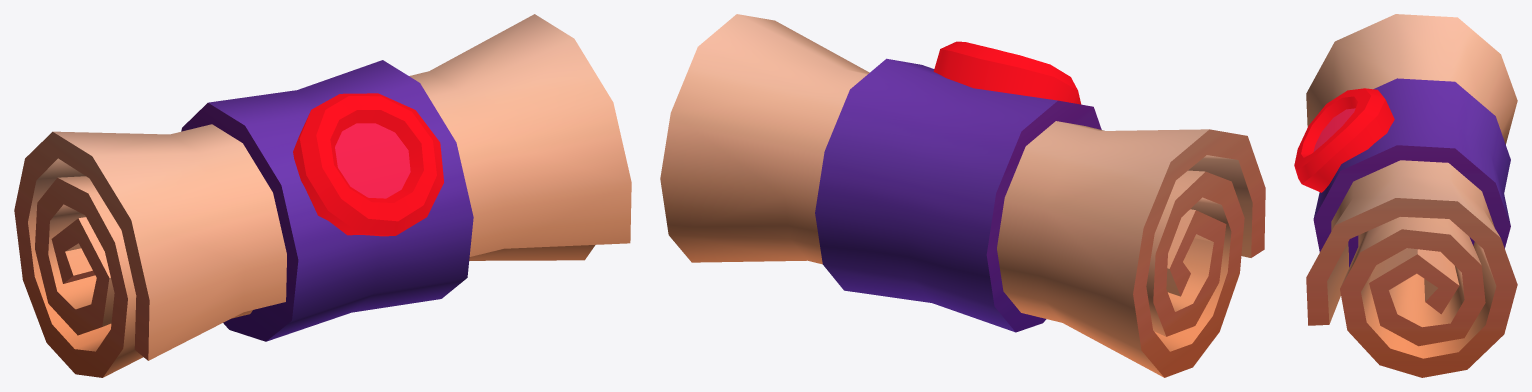
Rendered from Scroll_02.glb.
3 views of the same model, side by side, from view 1: azimuth 30°, elevation 25°; view 2: azimuth 150°, elevation 25°; view 3: azimuth 270°, elevation 25° (orthographic). The views are drawn at different scales.
Visible parts, largest first — view 1: Scroll_02; view 2: Scroll_02; view 3: Scroll_02.
Boxes of the visible parts, left/top/right/bottom form: Scroll_02: left=14, top=14, right=631, bottom=377; Scroll_02: left=660, top=14, right=1265, bottom=377; Scroll_02: left=1294, top=14, right=1517, bottom=377.
Bounding box in the file's own units: 1.14 × 0.5496 × 0.585.
Materials: 2 (2 with a texture image).
